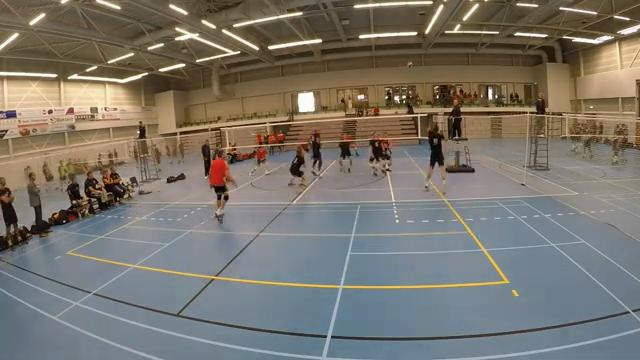attacco: (415, 121, 453, 200)
